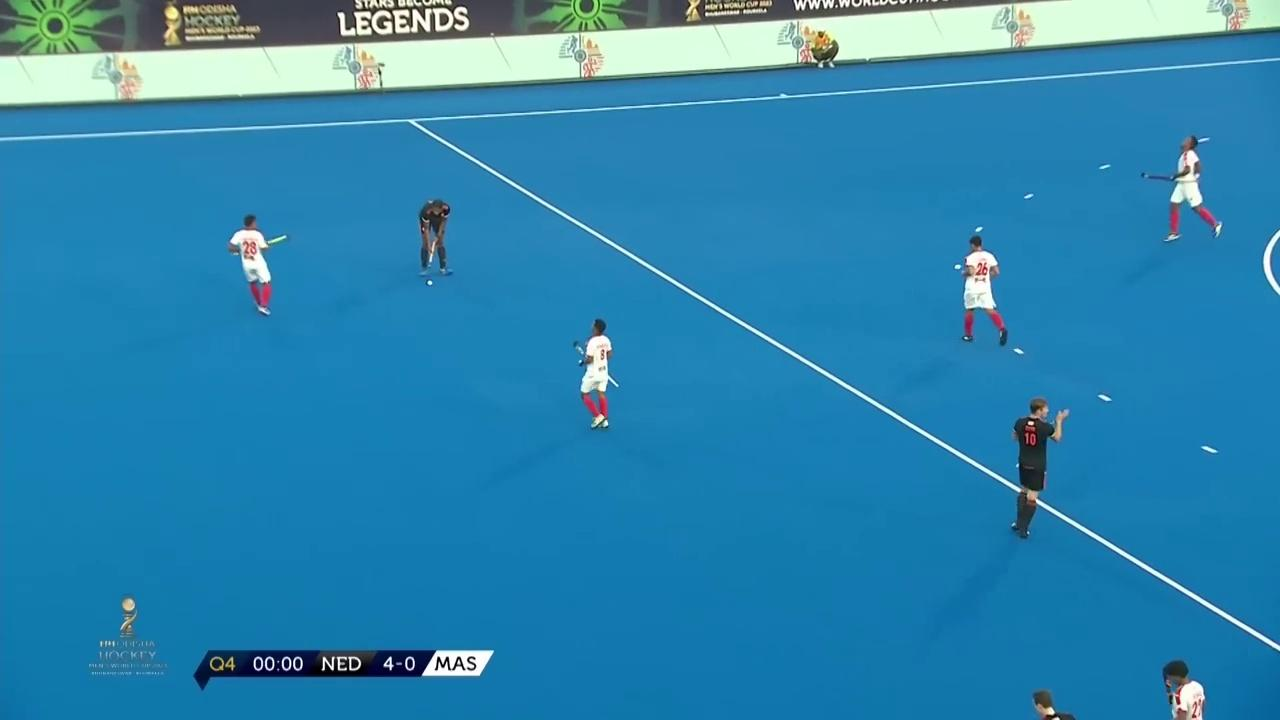ball: (422, 270, 442, 291)
